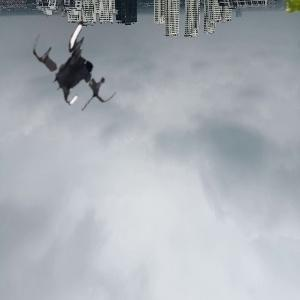drone: (29, 11, 133, 115)
